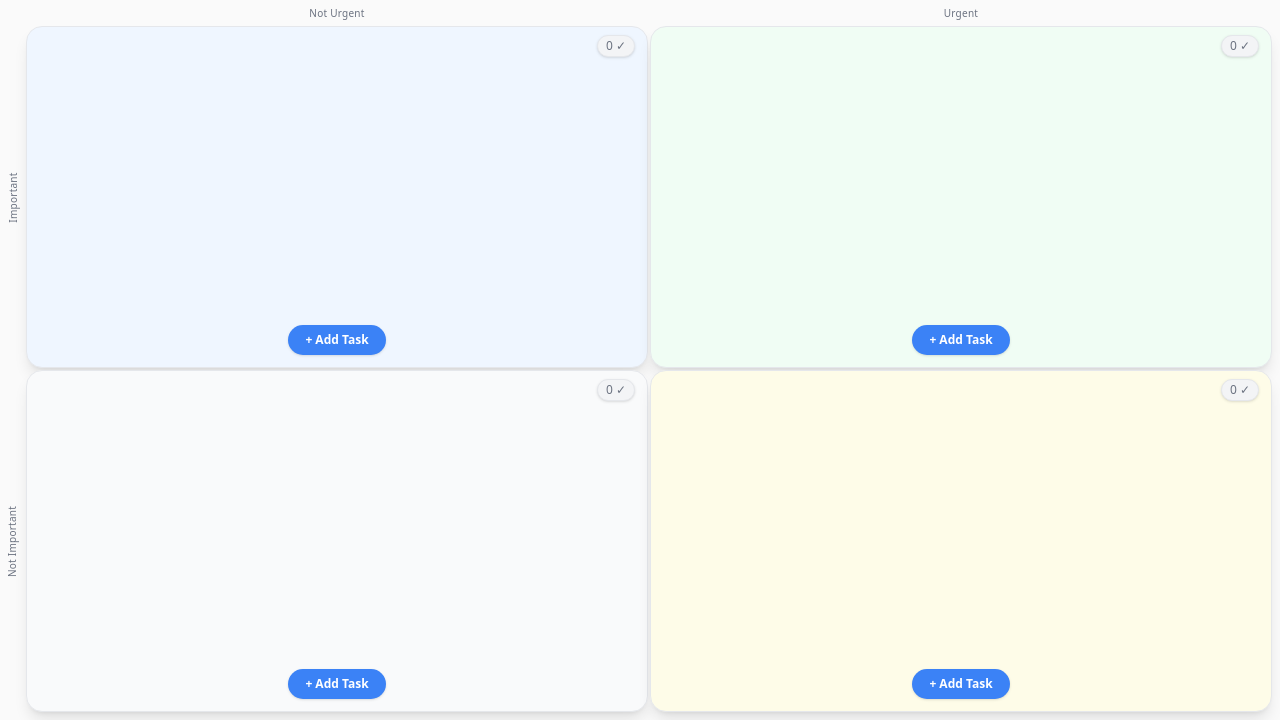
EisenhowerMatrix interactions › edits a task when clicked
The image size is (1280, 720).
Click the 1st button "+ Add Task" at (337, 340), box [288,325,386,355]
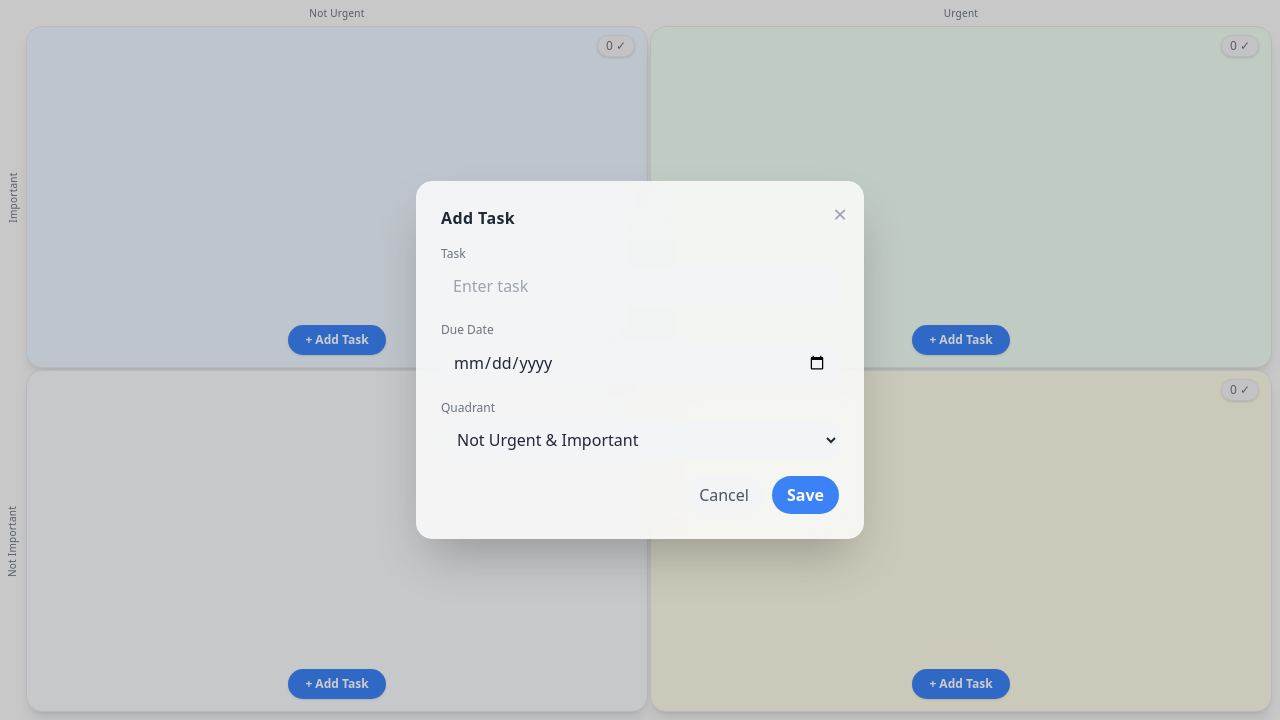
Type "Editable Task" into the field with placeholder "Enter task" at (640, 286), box [441,266,839,306]
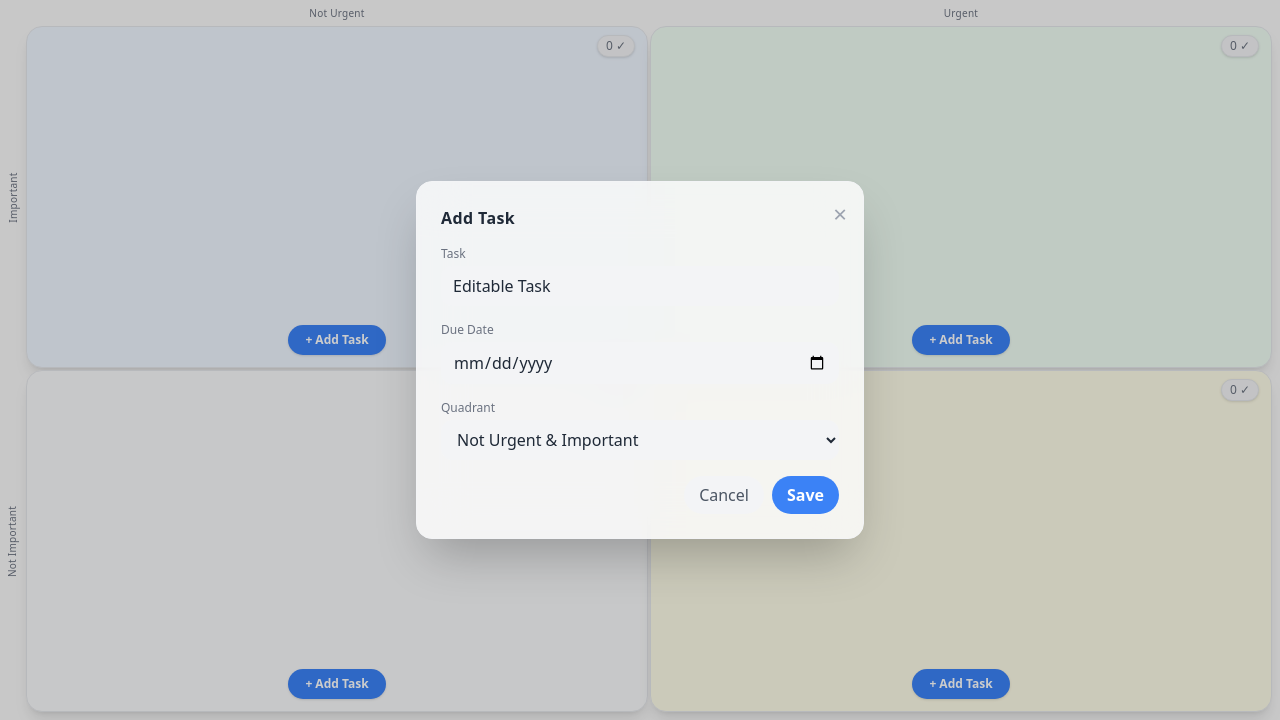
Click the button "Save" at (806, 495), box [772,476,839,514]
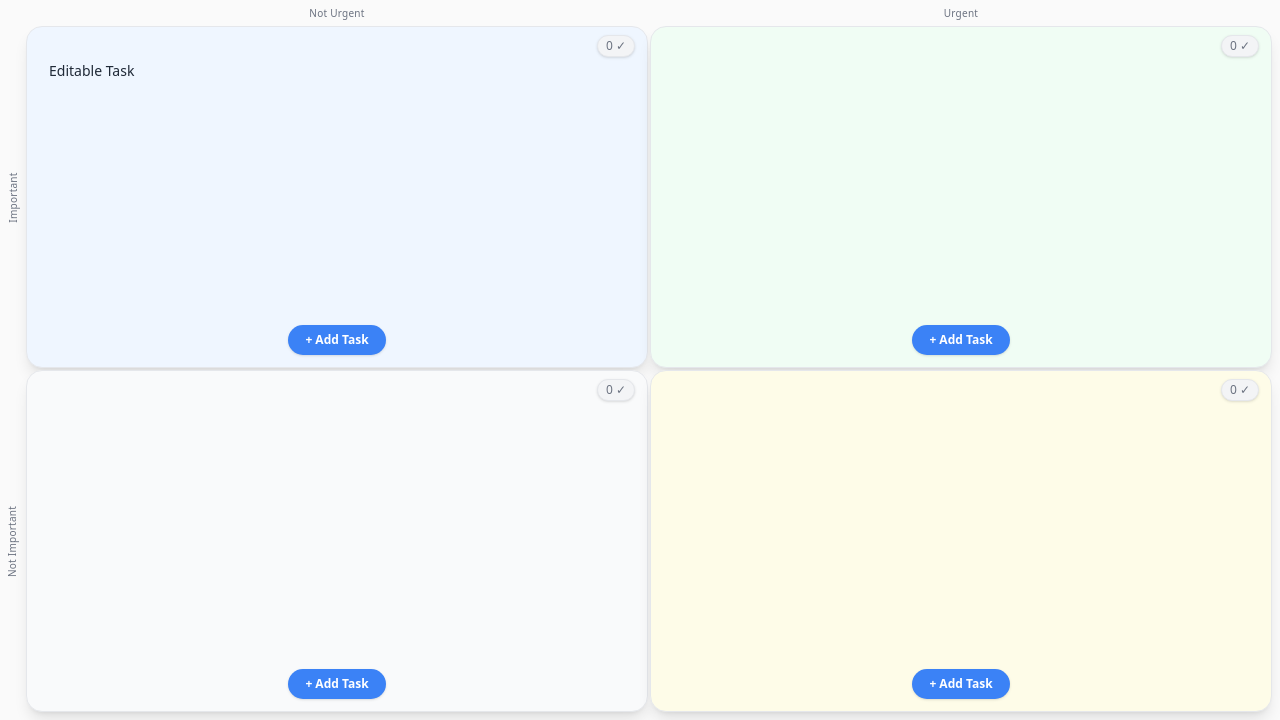
Click the button "Editable Task" at (92, 70), box [49,61,134,80]
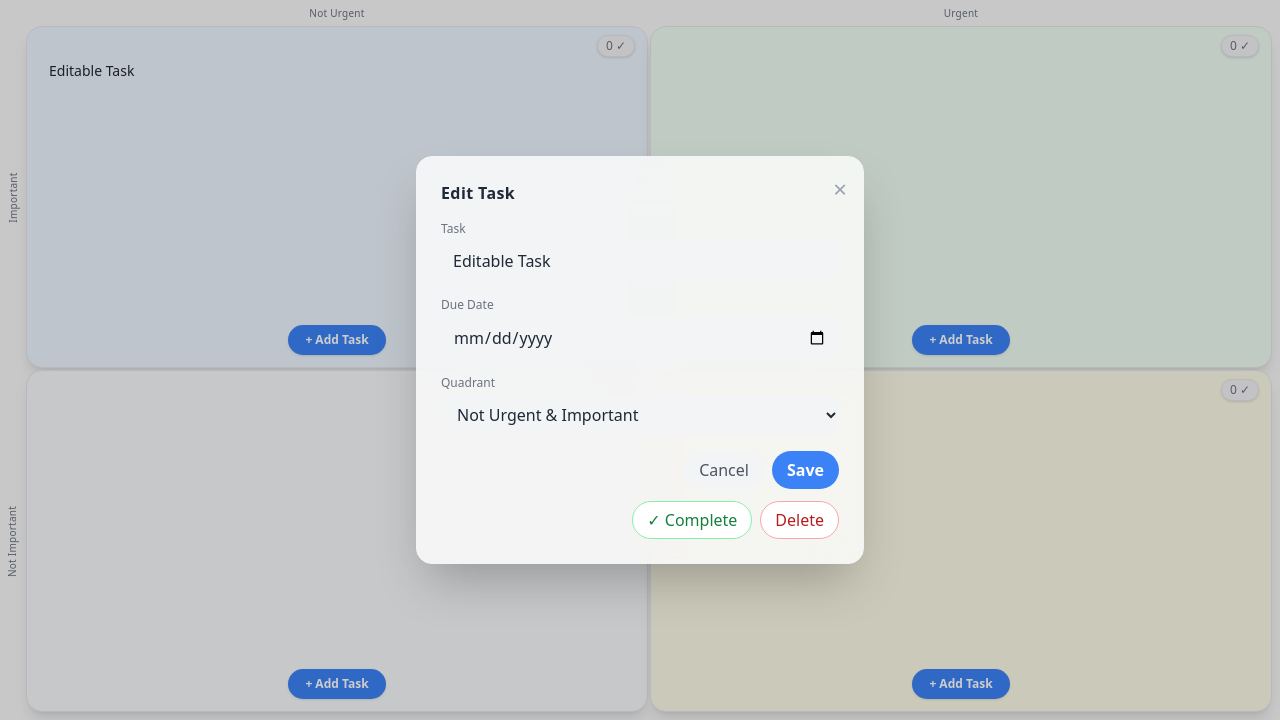
Replace the text in the field with placeholder "Enter task" with "Edited Task" at (640, 261), box [441,241,839,281]
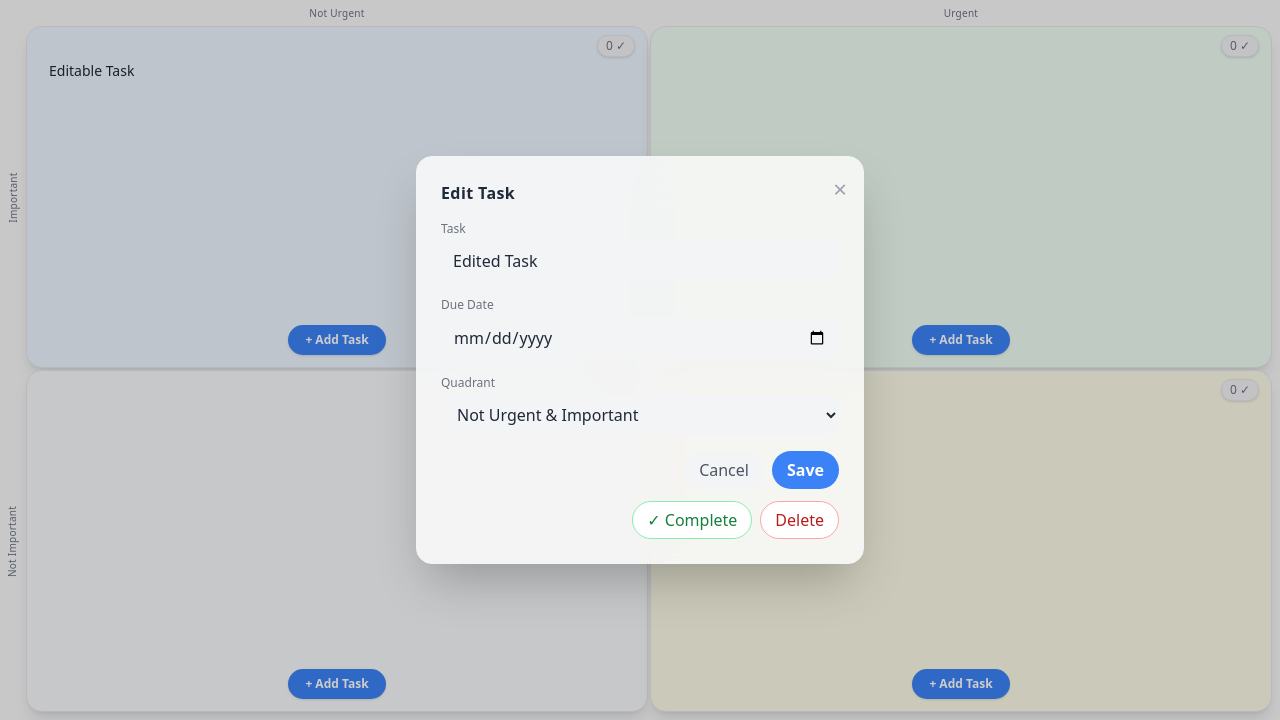
Click the button "Save" at (806, 470), box [772,451,839,489]
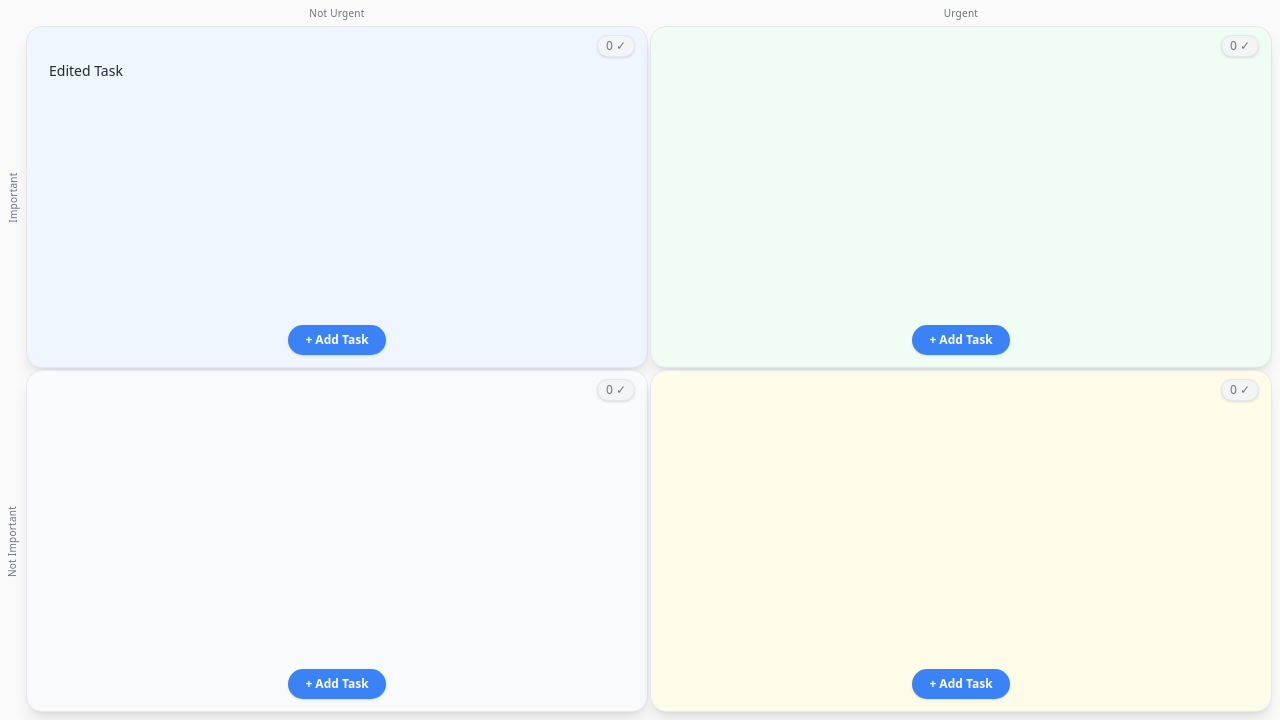
Expected: the text "Edited Task" is shown, [49,61,123,80]
